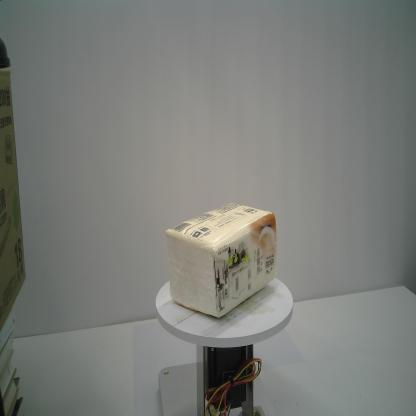Tissue: (164, 201, 279, 319)
